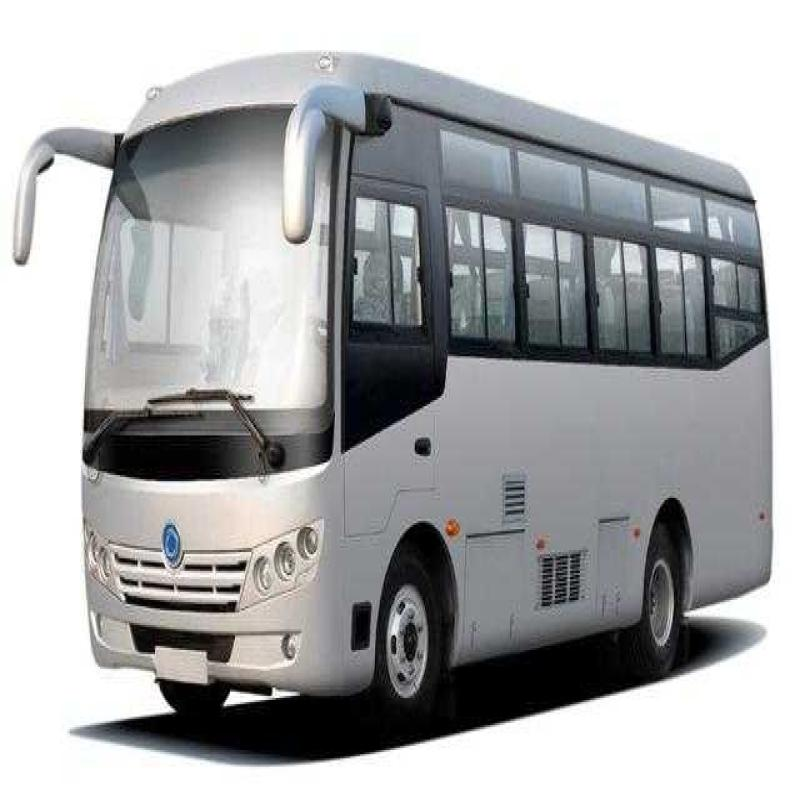bus: (49, 66, 751, 707)
